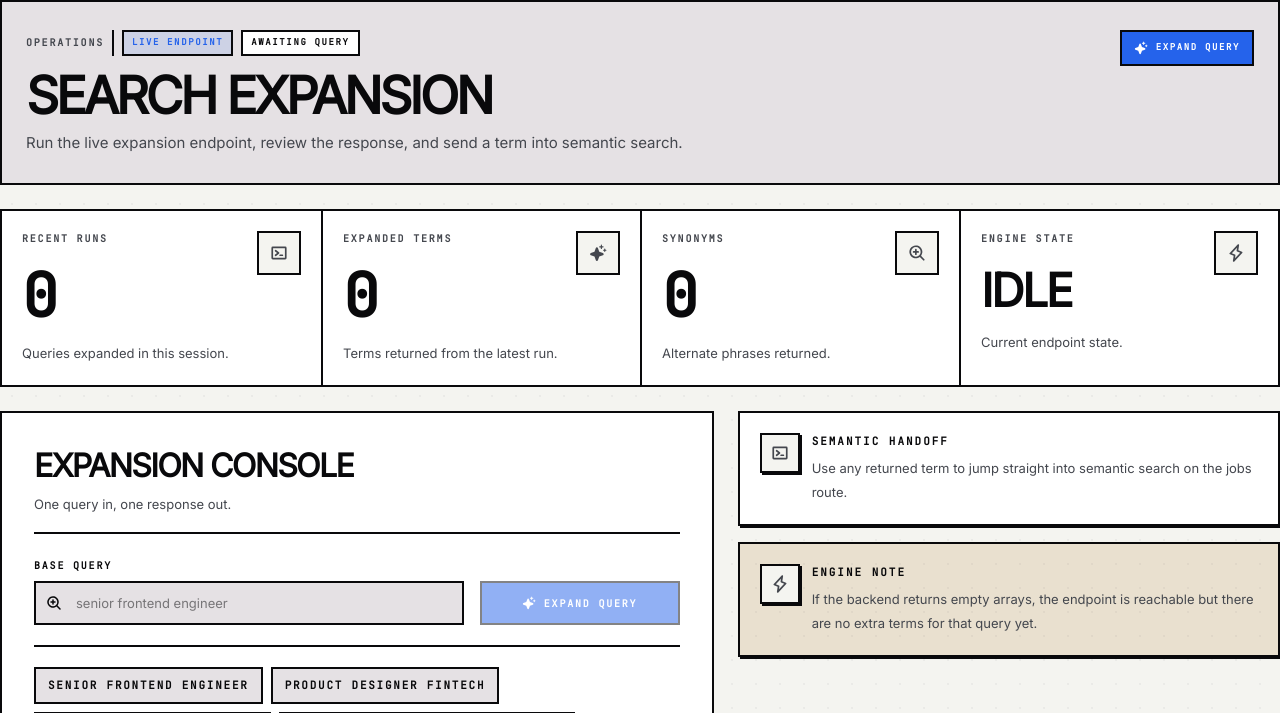
Test: Search Expansion page › runs search expansion against the live endpoint contract
The image size is (1280, 713).
expect the heading "Search Expansion" is shown: met, box x1=26 y1=64 x2=491 y2=126
Type "react engineer" into the field with placeholder "senior frontend engineer". click: (249, 603)
box: x1=34 y1=581 x2=464 y2=625
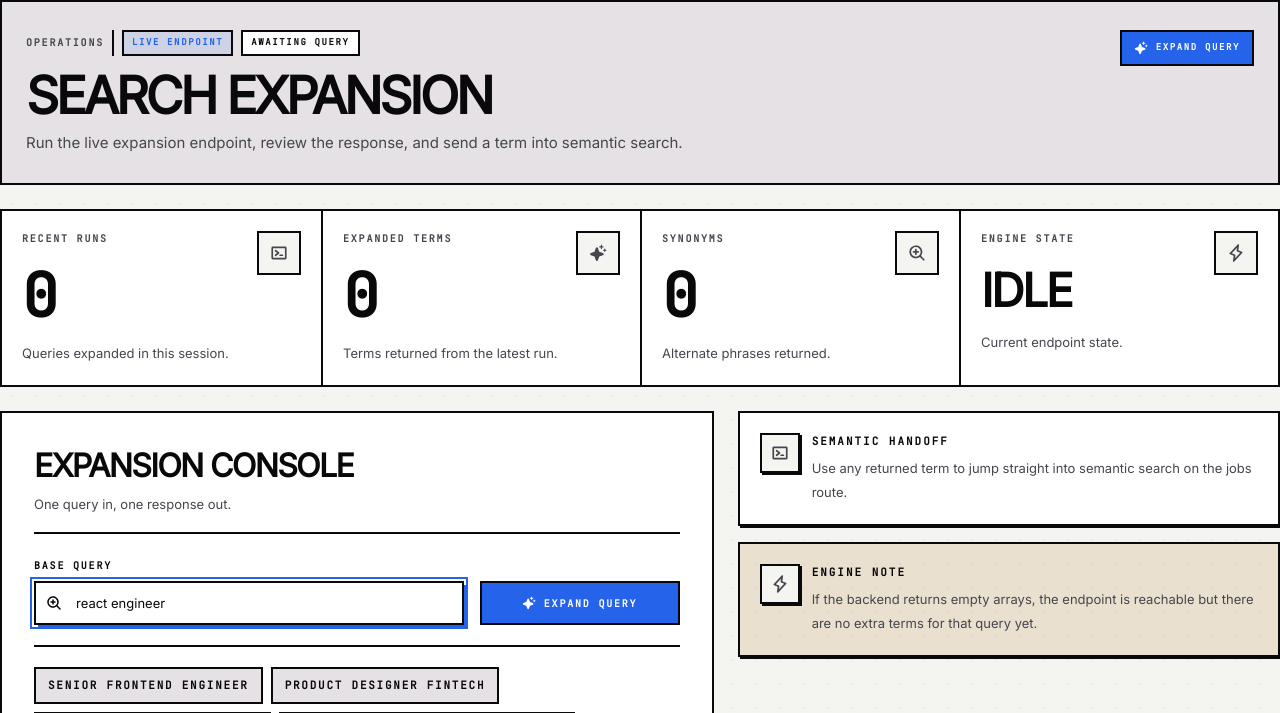
Press Enter
(page scrolled)
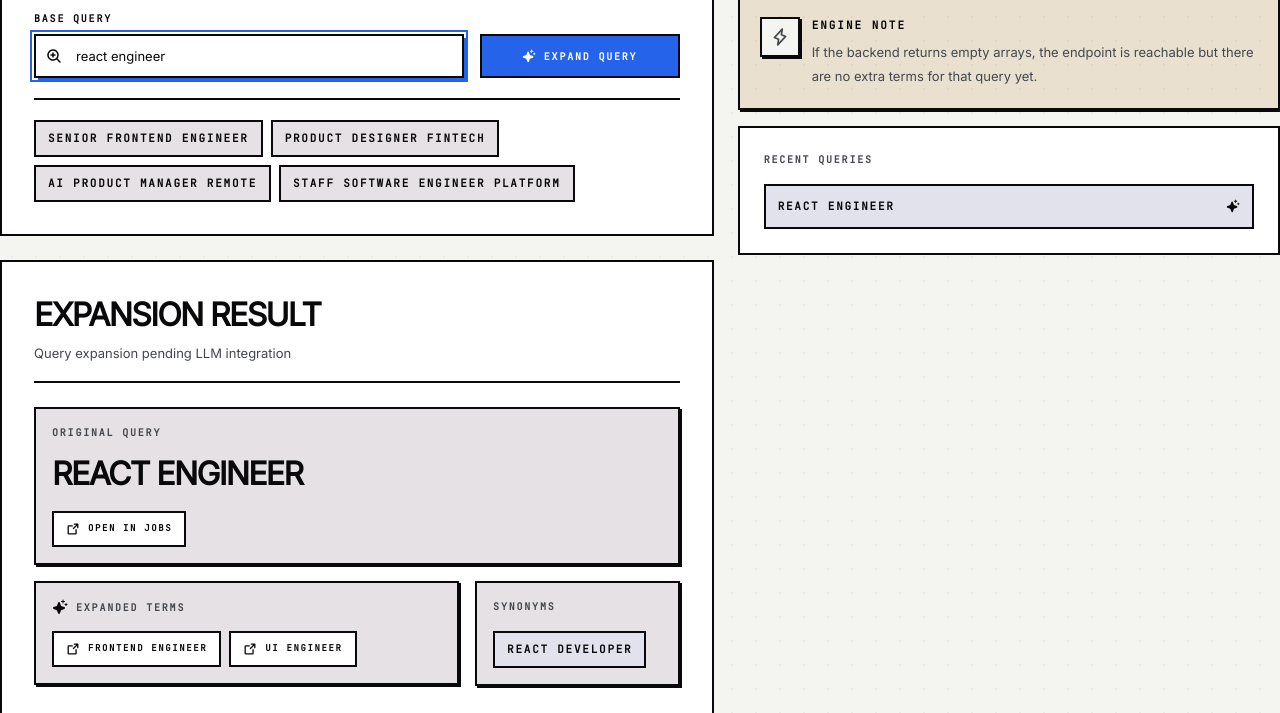
expect the text "Query expansion pending LLM integration" is shown: met, box x1=34 y1=341 x2=320 y2=365
expect the text "frontend engineer" is shown: met, box x1=88 y1=642 x2=207 y2=656
expect the button "react developer" is shown: met, box x1=493 y1=631 x2=646 y2=668
